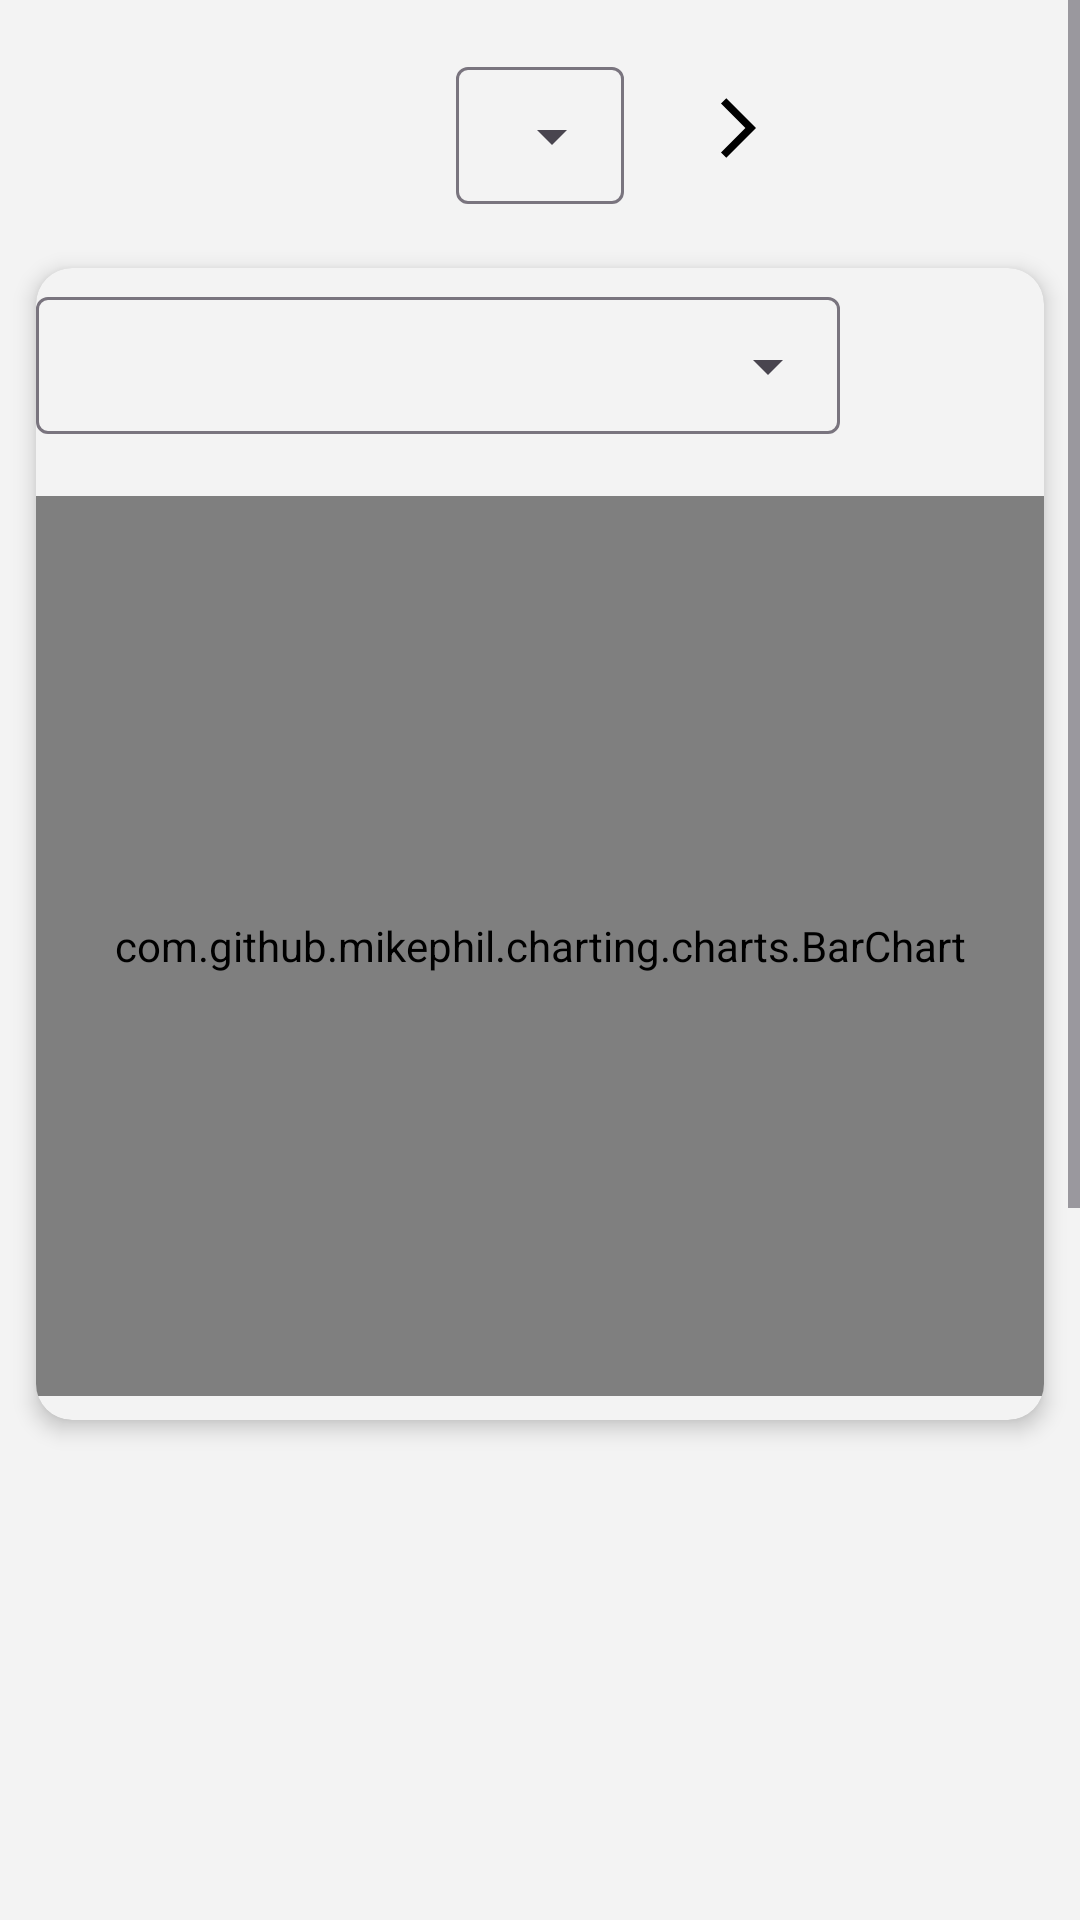

Where to tap for icons on this 1080*1920 app screen, as point (x, y):
Вперёд: point (738, 128)
